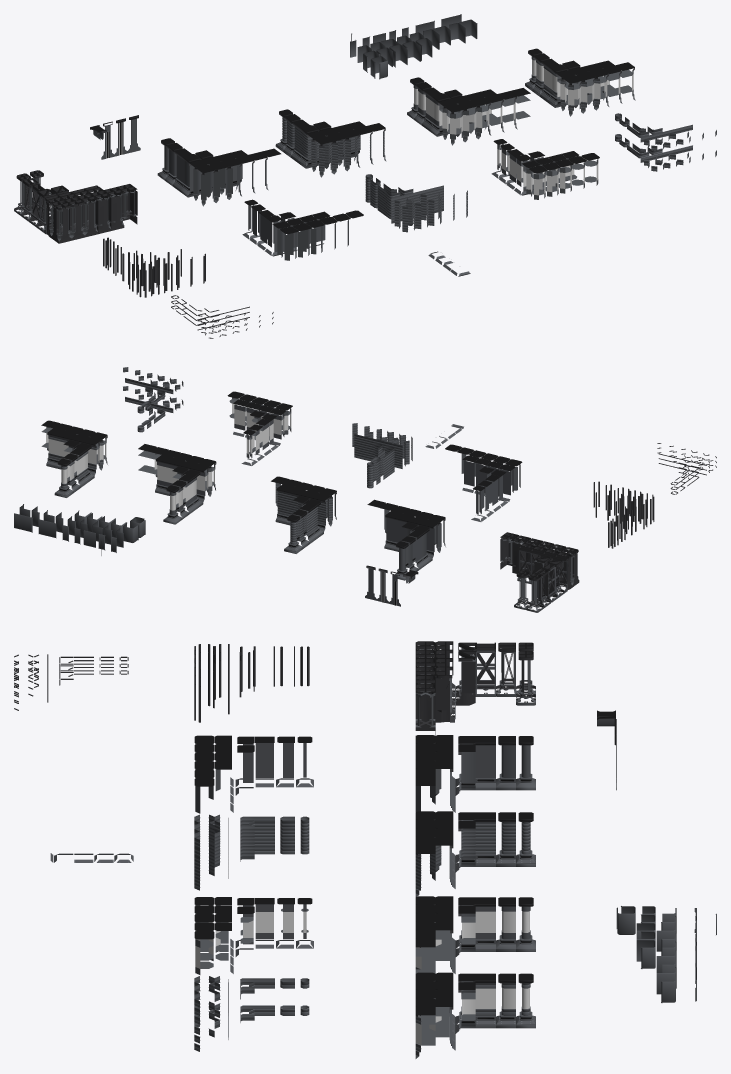
The model's file is SteelWalls.fbx.
3 renders of one model, top to bottom at view 1: azimuth 30°, elevation 25°; view 2: azimuth 150°, elevation 25°; view 3: azimuth 270°, elevation 25°, orthographic. The views are drawn at different scales.
Visible parts, largest first — view 1: SteelGirderX1, SteelGirderX5, SteelGirderX4, SteelGirderX6, SteelGirderX2, SteelGirderX3, SteelWindowX1, SteelReinforcedWindowX1, SteelReinforcedWallX1, SteelWallX1; view 2: SteelReinforcedWindowT4, SteelWallT4, SteelReinforcedWallT4, SteelWindowT4, SteelGirderT1, SteelGirderX6, SteelGirderI, SteelWindowT1, SteelGirderT4, SteelWindowSheetsT4, SteelWallI, SteelReinforcedWindowT1 (+1 smaller); view 3: SteelReinforcedWindowI, SteelWindowI, SteelWallI, SteelReinforcedWallI, SteelGirderX6, SteelGirderT4, SteelWallSheetsI, SteelGirderI, SteelReinforcedWindowU, SteelGirderL2, SteelWallU, SteelReinforcedWallU (+14 smaller).
Boxes of the visible parts, box(x1,y1,x2,y2) form: SteelGirderX1: box(51, 200, 71, 243); SteelGirderX5: box(104, 187, 124, 230); SteelGirderX4: box(92, 190, 111, 234); SteelGirderX6: box(117, 184, 137, 224); SteelGirderX2: box(65, 196, 84, 240); SteelGirderX3: box(78, 193, 97, 237); SteelWindowX1: box(445, 104, 464, 145); SteelReinforcedWindowX1: box(563, 75, 582, 116); SteelReinforcedWallX1: box(314, 136, 333, 177); SteelWallX1: box(196, 165, 215, 206); SteelReinforcedWindowT4: box(46, 428, 64, 468); SteelWallT4: box(384, 511, 402, 551); SteelReinforcedWallT4: box(275, 484, 294, 524); SteelWindowT4: box(155, 455, 173, 495); SteelGirderT1: box(554, 552, 572, 592); SteelGirderX6: box(500, 532, 518, 569); SteelGirderI: box(541, 562, 558, 602); SteelWindowT1: box(192, 464, 209, 501); SteelGirderT4: box(517, 543, 535, 583); SteelWindowSheetsT4: box(233, 399, 249, 436); SteelWallI: box(408, 530, 425, 570); SteelReinforcedWindowT1: box(83, 437, 100, 475); SteelReinforcedWindowI: box(475, 973, 495, 1028); SteelWindowI: box(475, 897, 495, 951); SteelWallI: box(475, 736, 495, 790); SteelReinforcedWallI: box(475, 812, 495, 866); SteelGirderX6: box(415, 684, 435, 735); SteelGirderT4: box(435, 667, 455, 722); SteelWallSheetsI: box(255, 736, 274, 787); SteelGirderI: box(475, 642, 495, 696); SteelReinforcedWindowU: box(496, 973, 515, 1028); SteelGirderL2: box(455, 651, 475, 705); SteelWallU: box(496, 736, 515, 790); SteelReinforcedWallU: box(496, 812, 515, 866).
Size of the model in its own units: 44 by 2.61 by 34.98.
